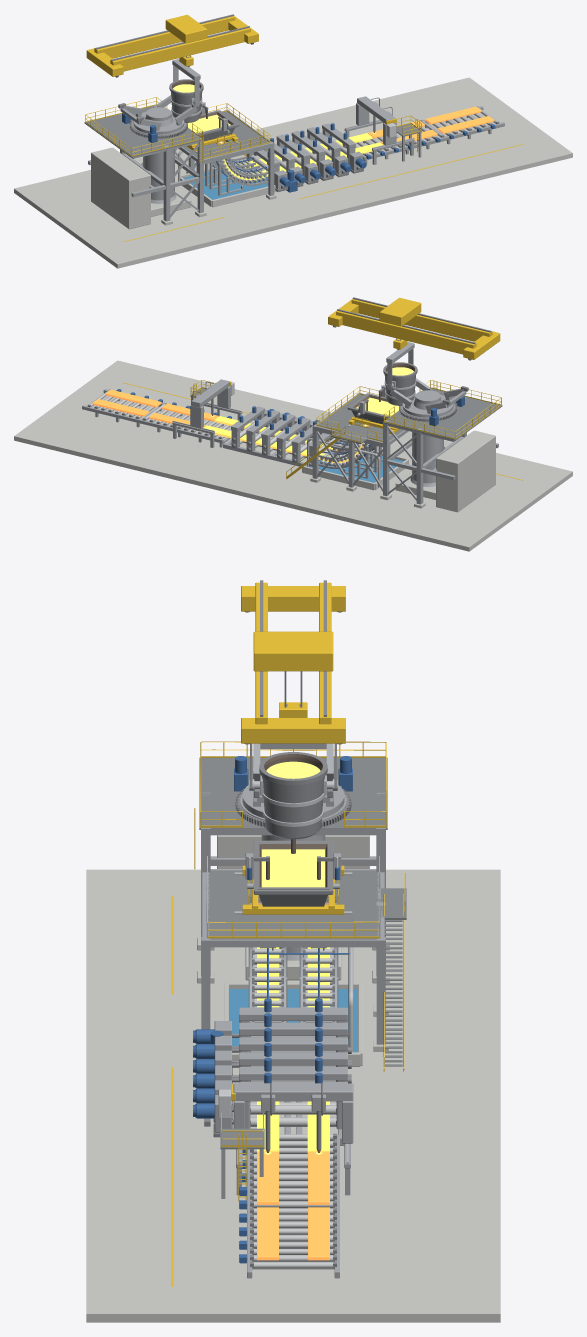
The model's file is continuous_casting.glb.
3 views of the same model, one above another, from view 1: azimuth 30°, elevation 25°; view 2: azimuth 150°, elevation 25°; view 3: azimuth 270°, elevation 25° (orthographic). The views are drawn at different scales.
Visible parts, largest first — view 1: Floor_Slab, C1_Turret_Structure, C1_Ladle_Crane, C5_Withdrawal_Straightener, C4_Segment_Frames_Basin, C2_Casting_Floor, C6_Torch_Cutting_Machine, C1_Ladle_Turret, C6_Runout_Roller_Table, C1_Ladle_Shroud, C2_Tundish_Car, C6_Cut_Slabs (+2 smaller); view 2: Floor_Slab, C1_Turret_Structure, C1_Ladle_Crane, C5_Withdrawal_Straightener, C2_Casting_Floor, C1_Ladle_Turret, C4_Segment_Frames_Basin, C6_Runout_Roller_Table, C6_Torch_Cutting_Machine, C1_Ladle_Shroud, C6_Cut_Slabs, C2_Tundish_Car (+2 smaller); view 3: Floor_Slab, C2_Casting_Floor, C5_Withdrawal_Straightener, C1_Turret_Structure, C1_Ladle_Crane, C6_Runout_Roller_Table, C2_Tundish_Car, C6_Torch_Cutting_Machine, C1_Ladle_Shroud, C6_Cut_Slabs, C4_Guide_Rolls_Sprays, C1_Ladle_Turret (+2 smaller).
Boxes of the visible parts, left/top/right/bottom form: Floor_Slab: left=14, top=77, right=572, bottom=268; C1_Turret_Structure: left=84, top=97, right=206, bottom=229; C1_Ladle_Crane: left=86, top=14, right=258, bottom=77; C5_Withdrawal_Straightener: left=246, top=123, right=366, bottom=191; C4_Segment_Frames_Basin: left=180, top=156, right=297, bottom=207; C2_Casting_Floor: left=171, top=103, right=276, bottom=213; C6_Torch_Cutting_Machine: left=344, top=96, right=422, bottom=164; C1_Ladle_Turret: left=118, top=95, right=199, bottom=143; C6_Runout_Roller_Table: left=343, top=106, right=504, bottom=163; C1_Ladle_Shroud: left=169, top=59, right=203, bottom=122; C2_Tundish_Car: left=187, top=102, right=239, bottom=153; C6_Cut_Slabs: left=368, top=106, right=494, bottom=144; Floor_Slab: left=14, top=360, right=572, bottom=551; C1_Turret_Structure: left=380, top=380, right=502, bottom=512; C1_Ladle_Crane: left=328, top=297, right=500, bottom=360; C5_Withdrawal_Straightener: left=223, top=406, right=348, bottom=467; C2_Casting_Floor: left=286, top=386, right=408, bottom=496; C1_Ladle_Turret: left=387, top=378, right=468, bottom=426; C4_Segment_Frames_Basin: left=302, top=439, right=408, bottom=490; C6_Runout_Roller_Table: left=82, top=389, right=243, bottom=447; C6_Torch_Cutting_Machine: left=172, top=379, right=242, bottom=447; C1_Ladle_Shroud: left=383, top=342, right=417, bottom=405; C6_Cut_Slabs: left=92, top=389, right=218, bottom=427; C2_Tundish_Car: left=347, top=385, right=399, bottom=436; Floor_Slab: left=86, top=869, right=500, bottom=1322; C2_Casting_Floor: left=198, top=856, right=406, bottom=1071; C5_Withdrawal_Straightener: left=193, top=998, right=351, bottom=1145; C1_Turret_Structure: left=194, top=741, right=389, bottom=983; C1_Ladle_Crane: left=241, top=580, right=345, bottom=744; C6_Runout_Roller_Table: left=239, top=1133, right=339, bottom=1278; C2_Tundish_Car: left=234, top=840, right=352, bottom=914; C6_Torch_Cutting_Machine: left=218, top=1083, right=353, bottom=1201; C1_Ladle_Shroud: left=249, top=743, right=337, bottom=853; C6_Cut_Slabs: left=257, top=1151, right=329, bottom=1260; C4_Guide_Rolls_Sprays: left=252, top=947, right=353, bottom=1052; C1_Ladle_Turret: left=234, top=743, right=352, bottom=827.
Size of the model in its own units: 33 by 12.25 by 13.
